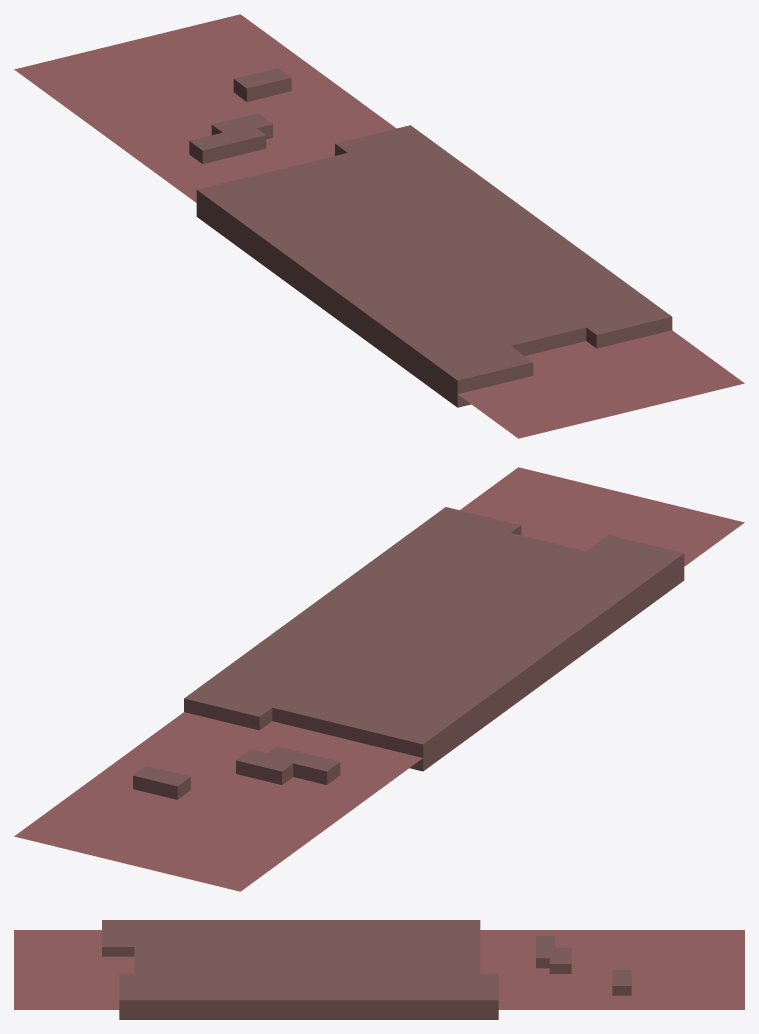
The model's file is Tile_Magma_04.fbx.
The picture shows the model from 3 angles, top to bottom: view 1: azimuth 30°, elevation 25°; view 2: azimuth 150°, elevation 25°; view 3: azimuth 270°, elevation 25°; orthographic projection. The views are drawn at different scales.
Visible parts, largest first — view 1: pCube32, pPlane8, polySurface12, polySurface13; view 2: pCube32, pPlane8, polySurface12, polySurface13; view 3: pCube32, pPlane8, polySurface12, polySurface13.
Part boxes in pixels (x1,y1,x2,y2): pCube32: (196,125,672,407); pPlane8: (14,14,744,438); polySurface12: (189,113,272,163); polySurface13: (233,68,291,101); pCube32: (184,507,684,771); pPlane8: (14,467,744,891); polySurface12: (236,746,340,784); polySurface13: (133,766,190,799); pCube32: (102,920,498,1019); pPlane8: (14,930,744,1009); polySurface12: (536,936,571,973); polySurface13: (612,970,631,995).
Bounding box in the file's own units: 35 × 4 × 135.
